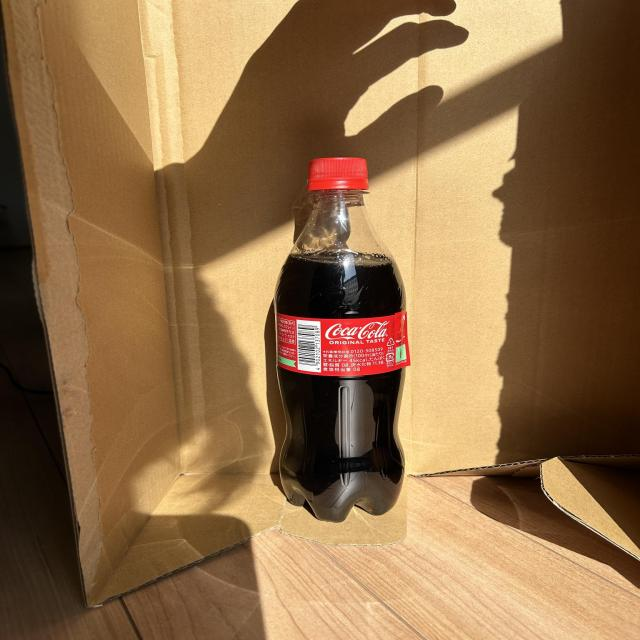high: (274, 158, 410, 522)
